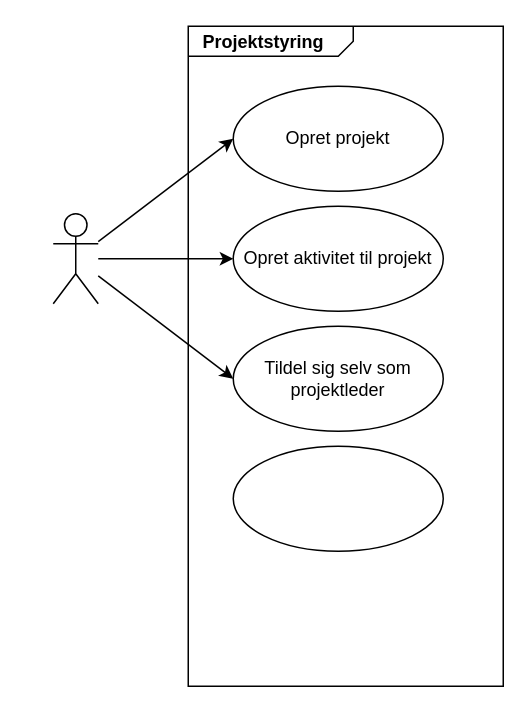
This 530x713 diagram has some shape labels left out. Here are the shapes that lost their labels. From the top down, the box of each, then its label:
(52, 212, 98, 304): Medarbejder
(232, 445, 443, 551): Tilknyt medarbejder til projekt
